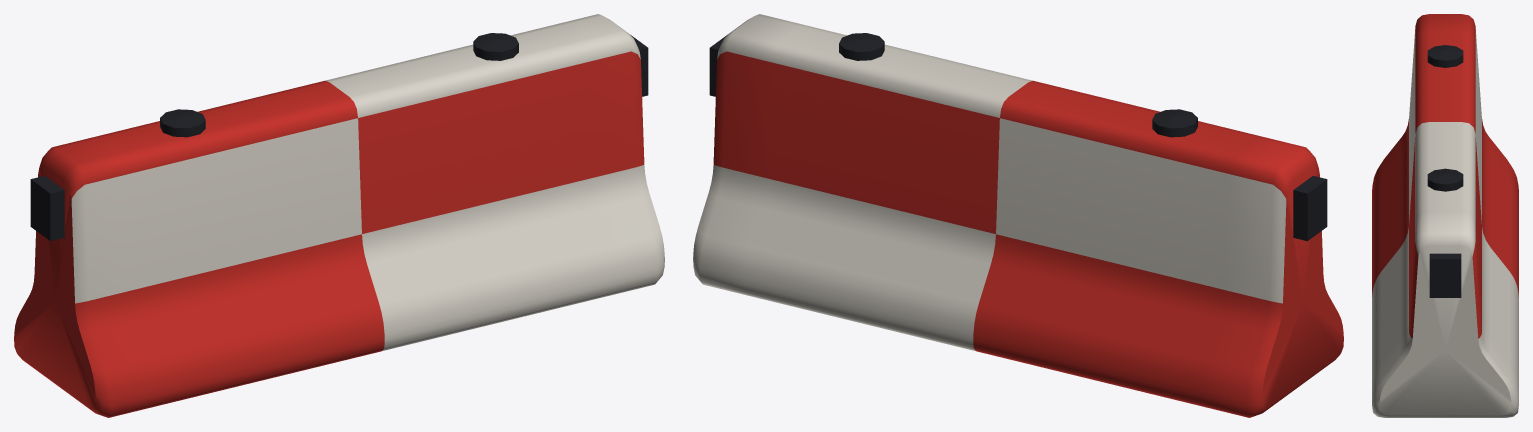
File: barrier.glb
3 renders of one model, left to right at view 1: azimuth 30°, elevation 25°; view 2: azimuth 150°, elevation 25°; view 3: azimuth 270°, elevation 25°, orthographic. The views are drawn at different scales.
Parts seen in each view (by area): view 1: barrier_mesh; view 2: barrier_mesh; view 3: barrier_mesh.
Part boxes in pixels (bbox=[...]): barrier_mesh: bbox=[14, 14, 664, 417]; barrier_mesh: bbox=[693, 14, 1343, 417]; barrier_mesh: bbox=[1372, 14, 1518, 417].
Size of the model in its own units: 2.1 by 0.82 by 0.5517.
